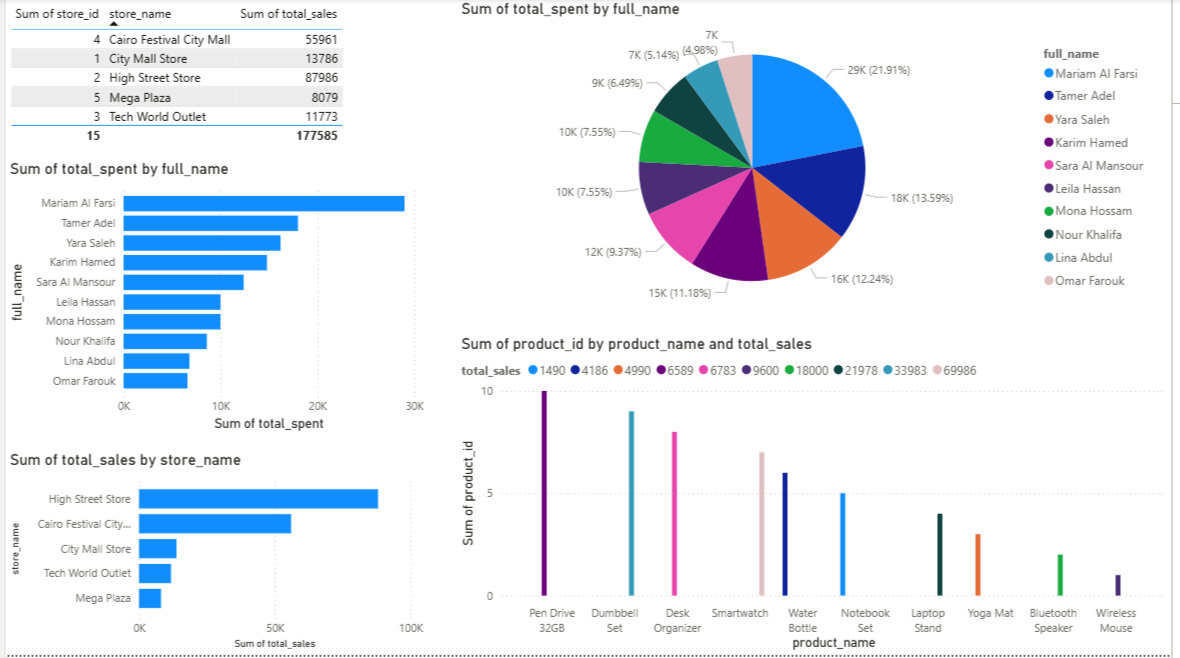

The page's visual inventory and layout, read from the dashboard file:
{"tool":"powerbi","page":{"name":"Page 3","canvas":[1280,720],"ordinal":2},"visuals":[{"type":"clusteredBarChart","fields":{"Category":["store_performance_gold.store_name"],"Y":["store_performance_gold.total_sales"]},"box":[0,496,464,224],"z":0},{"type":"tableEx","fields":{"Values":["store_performance_gold.store_id","store_performance_gold.store_name","store_performance_gold.total_sales"]},"box":[0,0,464,176],"z":1000},{"type":"pieChart","fields":{"Y":["top_customers_gold.total_spent"],"Category":["top_customers_gold.full_name"]},"box":[496,0,768,352],"z":2000},{"type":"barChart","fields":{"Y":["top_customers_gold.total_spent"],"Category":["top_customers_gold.full_name"]},"box":[0,176,464,304],"z":3000},{"type":"clusteredColumnChart","fields":{"Category":["top_products_gold.product_name"],"Series":["top_products_gold.total_sales"],"Y":["top_products_gold.product_id"]},"box":[496,368,784,352],"z":4000}]}

Visuals, with their boxes in screenshot pixels (x1, y1, x2, y2), scaled from the page's 1280x720 canvas onto the 1180x658 screenshot:
clusteredBarChart - store_performance_gold.store_name x store_performance_gold.total_sales: [x1=0, y1=453, x2=428, y2=657]
tableEx - store_performance_gold.store_id x store_performance_gold.store_name: [x1=0, y1=0, x2=428, y2=161]
pieChart - top_customers_gold.total_spent x top_customers_gold.full_name: [x1=457, y1=0, x2=1165, y2=322]
barChart - top_customers_gold.total_spent x top_customers_gold.full_name: [x1=0, y1=161, x2=428, y2=439]
clusteredColumnChart - top_products_gold.product_name x top_products_gold.total_sales: [x1=457, y1=336, x2=1179, y2=657]
